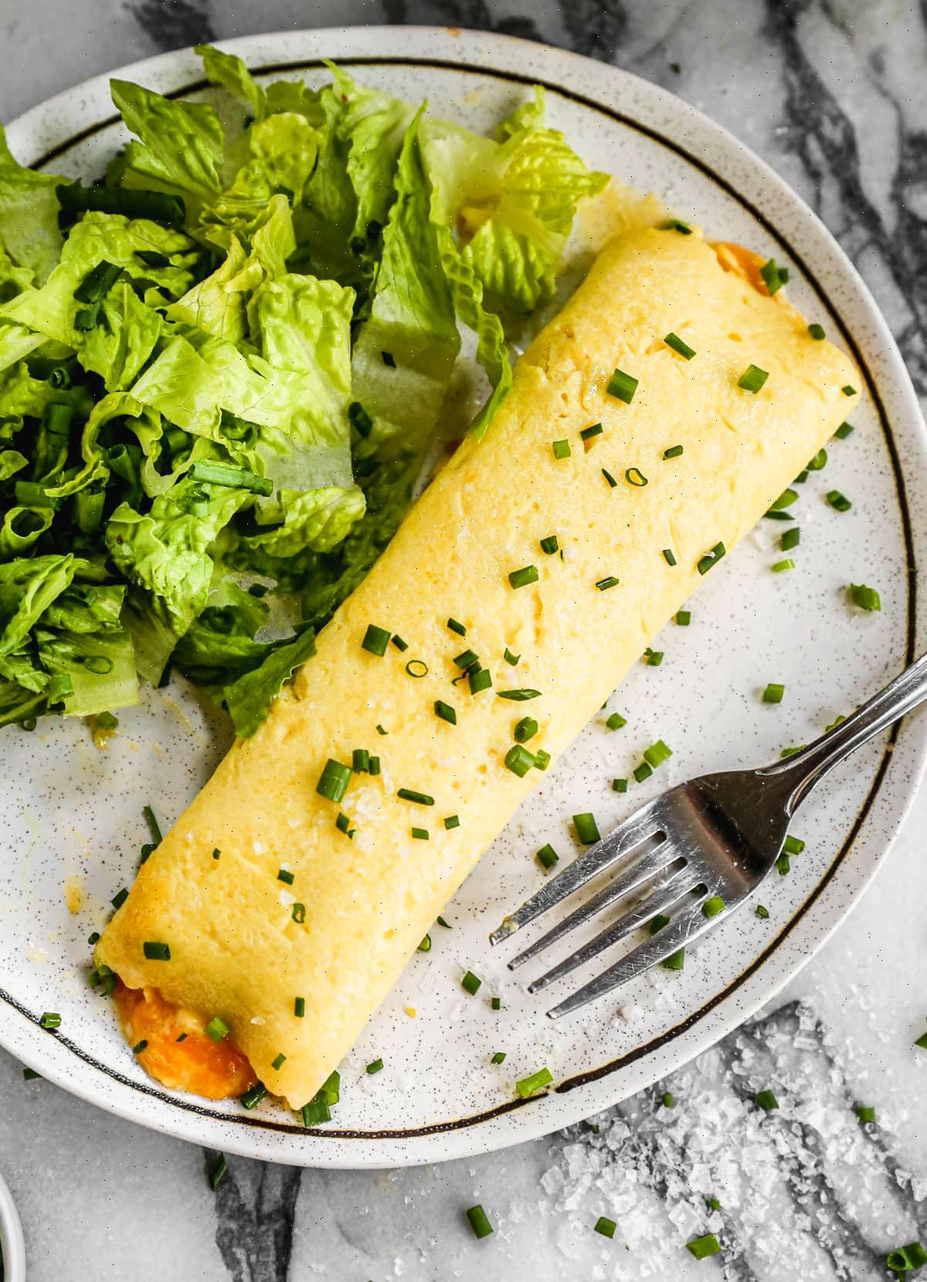omelette: (233, 353, 781, 1076)
salad: (17, 140, 433, 567)
